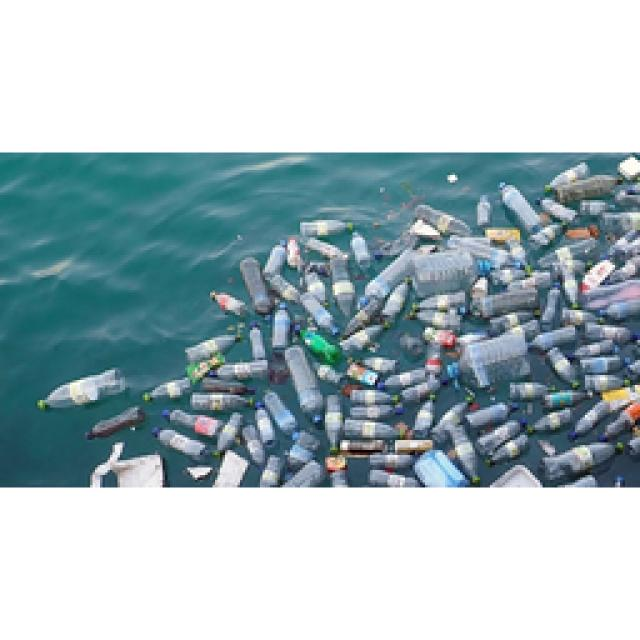plastic: (33, 158, 640, 487)
